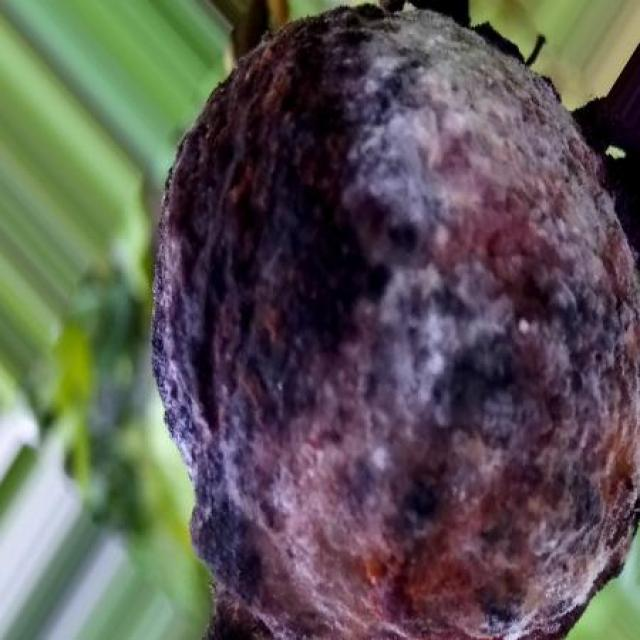Phytopthora: (155, 8, 640, 639)
